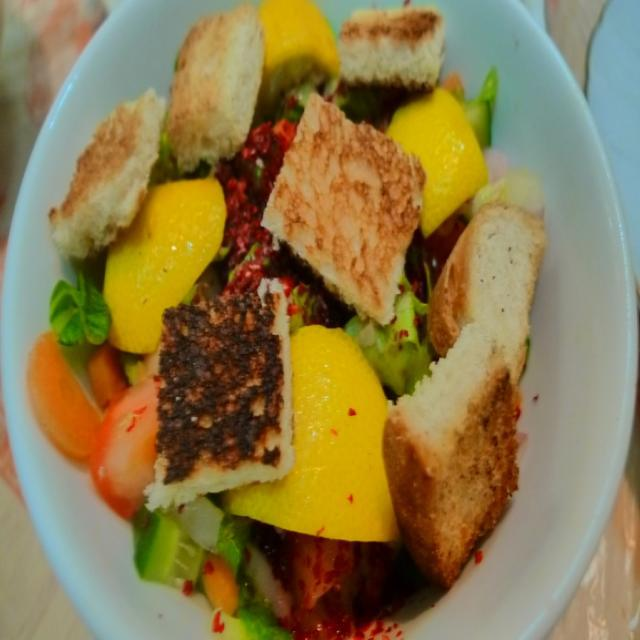Salad: (21, 0, 557, 639)
